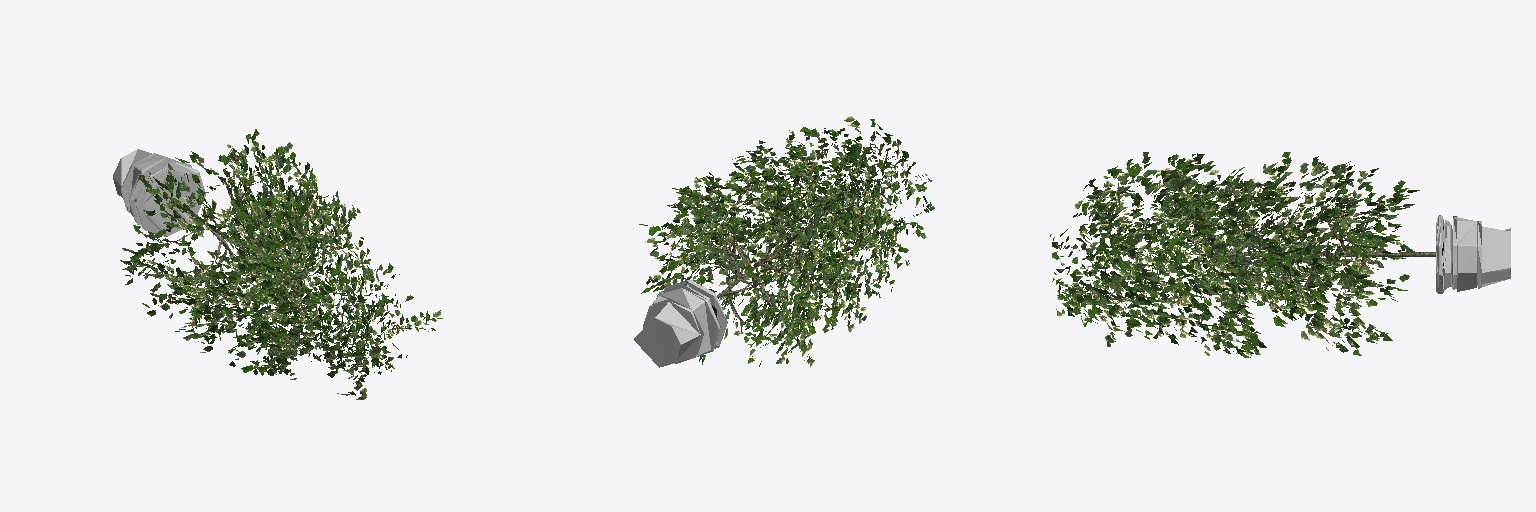
The picture shows the model from 3 angles: view 1: azimuth 30°, elevation 25°; view 2: azimuth 150°, elevation 25°; view 3: azimuth 270°, elevation 25°; orthographic projection.
Visible parts, largest first — view 1: Plant_-_Small_tree.018_Component#3.002; view 2: Plant_-_Small_tree.018_Component#3.002; view 3: Plant_-_Small_tree.018_Component#3.002.
Part boxes in pixels (left/top/right/bottom): Plant_-_Small_tree.018_Component#3.002: left=113, top=129, right=442, bottom=399; Plant_-_Small_tree.018_Component#3.002: left=634, top=116, right=934, bottom=367; Plant_-_Small_tree.018_Component#3.002: left=1050, top=152, right=1510, bottom=357.
Bounding box in the file's own units: 1.04 × 1.09 × 2.3.
Materials: 9 (8 with a texture image).